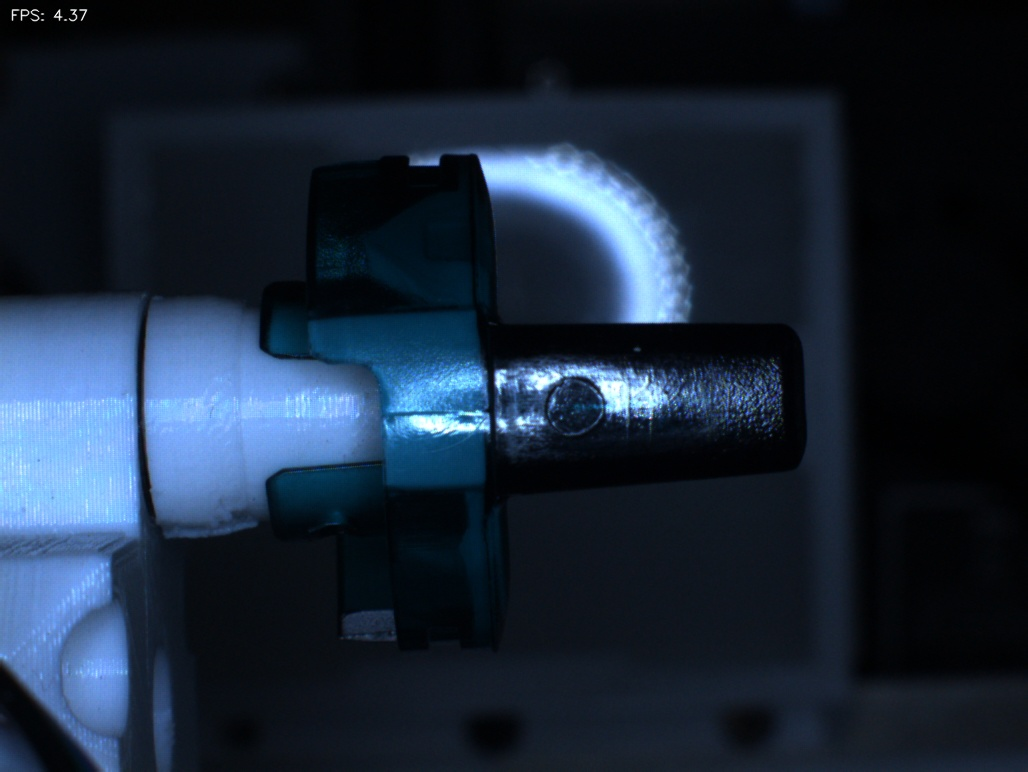DentOk: (330, 198, 411, 288)
